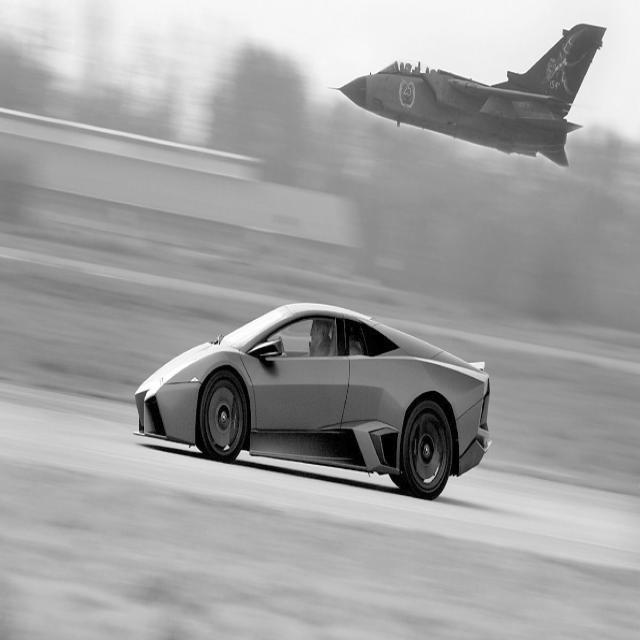car: (133, 301, 491, 500)
